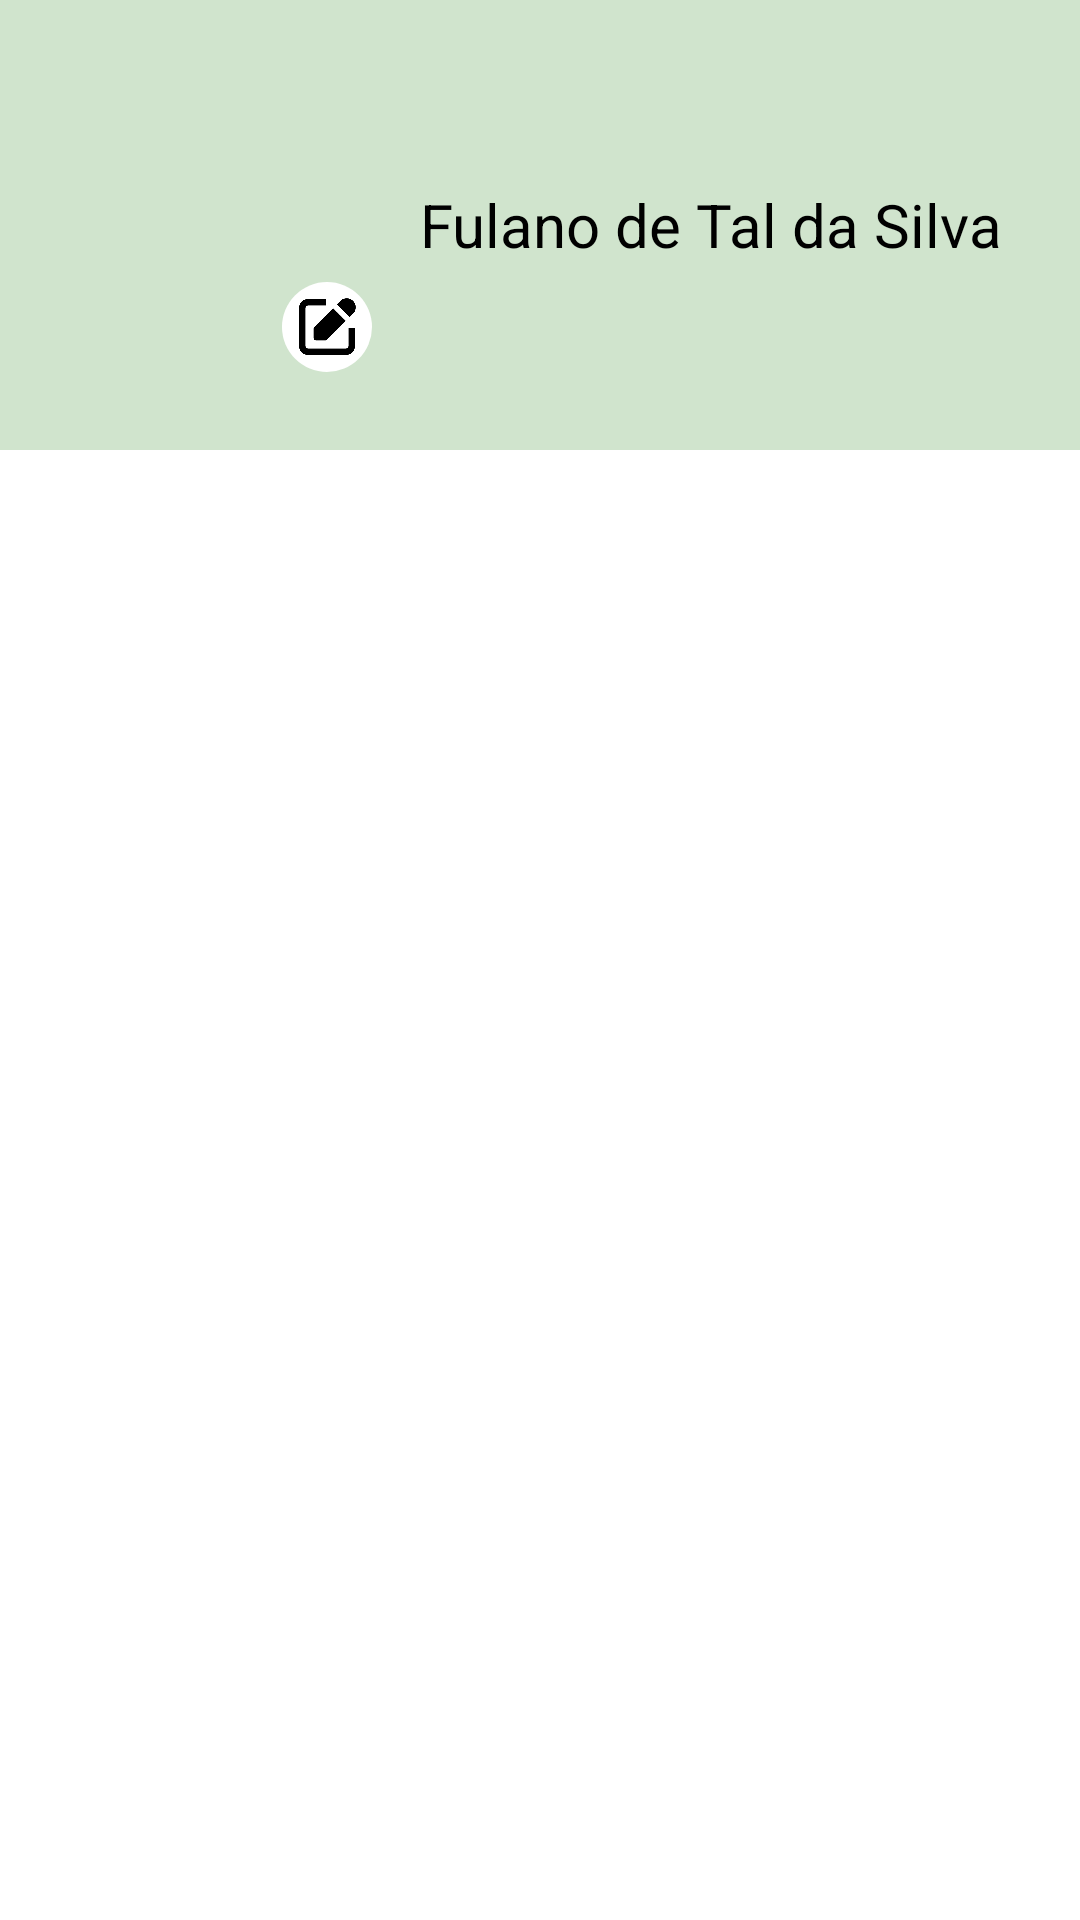

Named icons in this screenshot (1080 × 1920) and their bounding boxes, bbox(x1, y1, x2, y2):
editarperfil: bbox(282, 282, 372, 372)
